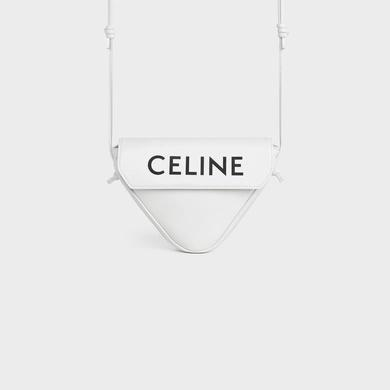CELINE: (147, 155, 243, 176)
